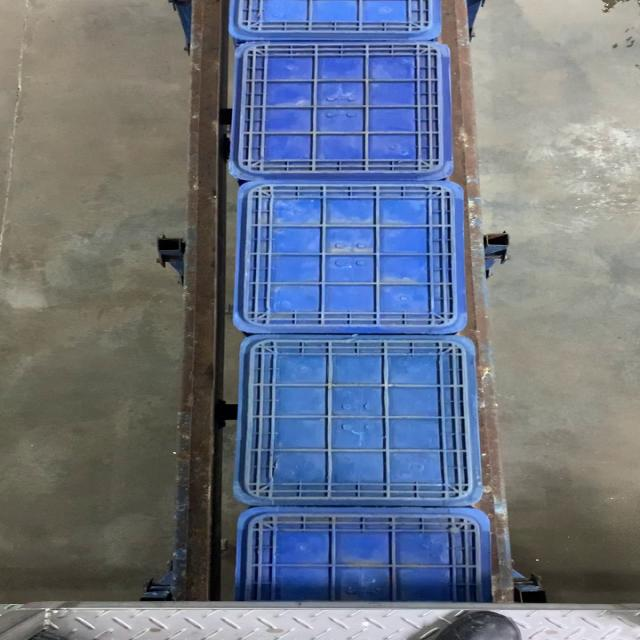Box: (232, 337, 483, 509), (232, 180, 466, 334), (229, 42, 458, 180)
